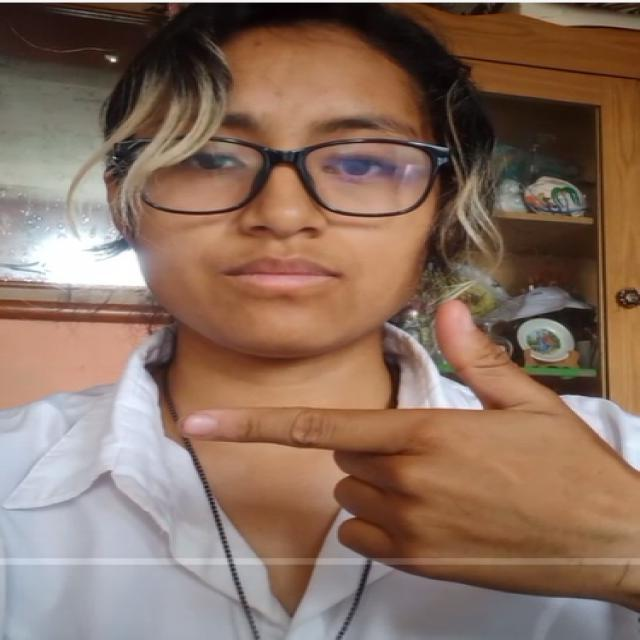G: (172, 279, 635, 586)
